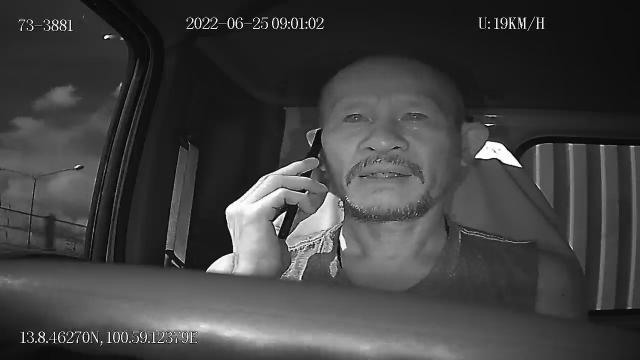PhoneUse: (278, 129, 324, 244)
SafeDriving: (336, 101, 376, 134), (393, 100, 436, 130)
